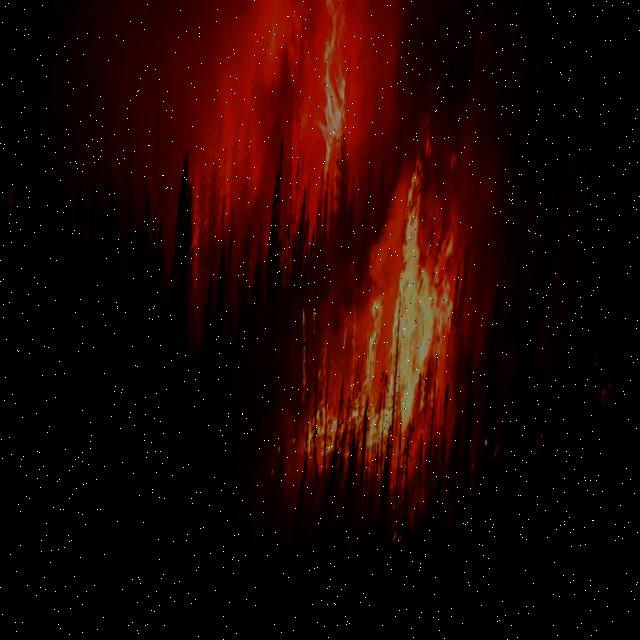Fire: (354, 125, 472, 474), (262, 0, 358, 212)
